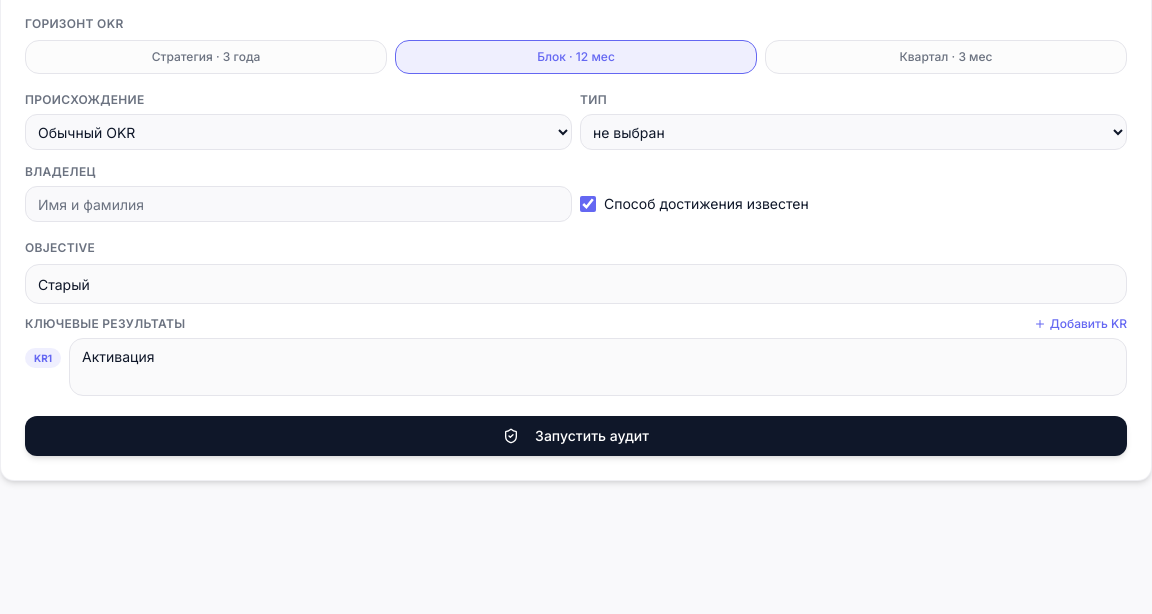
Test case: OkrValidator: coach-mode rendering (mode=fix) › editor_note из ответа fix рендерится под предложениями редактора
The width and height of the screenshot is (1152, 614).
Click the button "Запустить аудит": (576, 436) x1=25 y1=416 x2=1127 y2=456
(page scrolled)
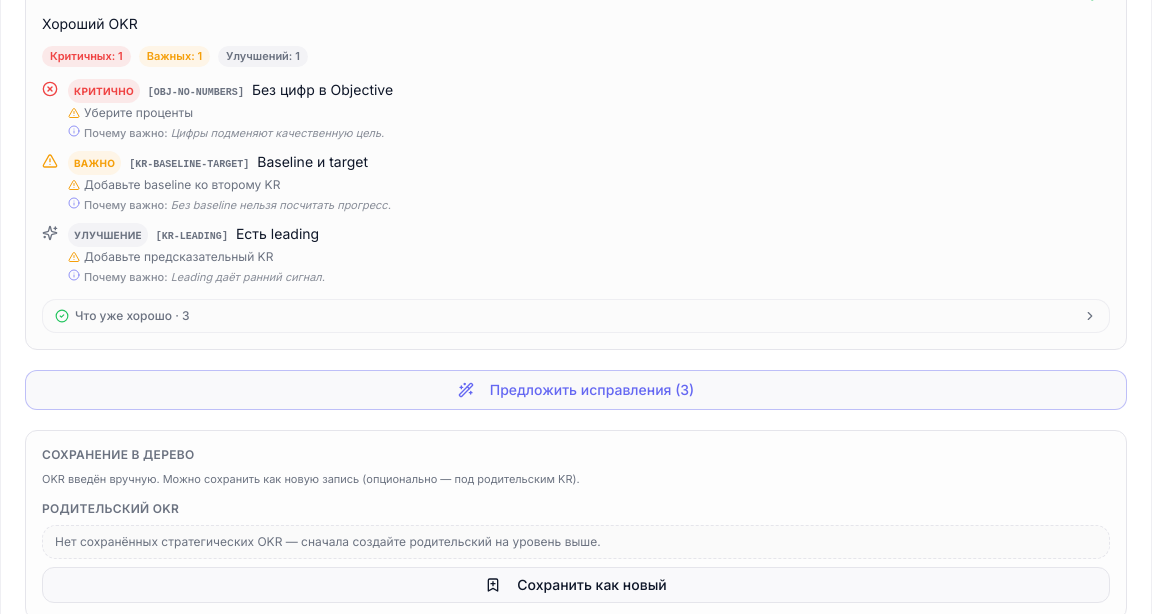
Click the button with test id "request-fix-button": (576, 390) x1=25 y1=370 x2=1127 y2=410
(page scrolled)
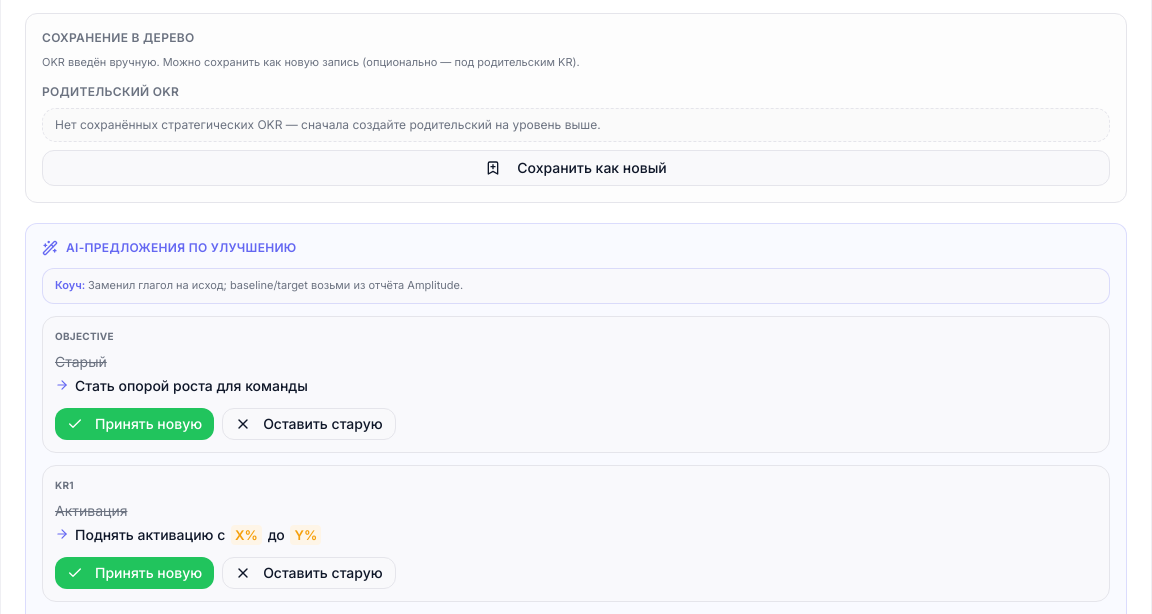
Check: the element with test id "editor-note" shows "baseline/target возьми из отчёта Amplitude", box x1=88 y1=278 x2=463 y2=292
Check: the element with test id "editor-note" shows "Коуч:", box x1=55 y1=278 x2=88 y2=292
